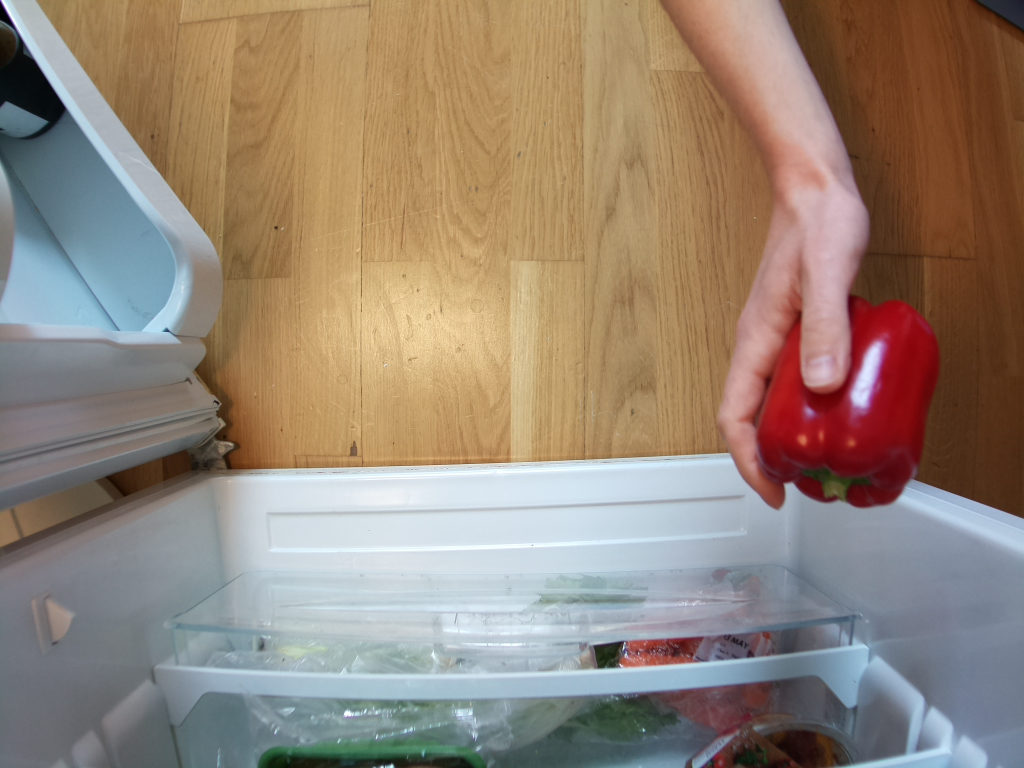pepper: (752, 294, 940, 510)
